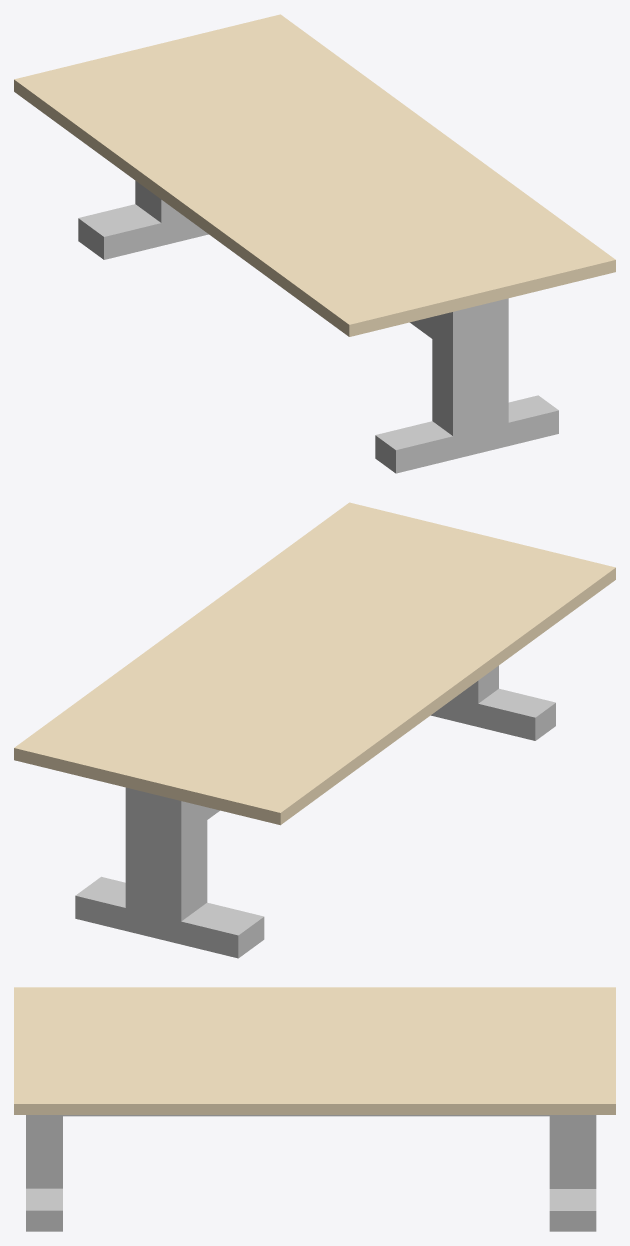
File: tablefloor8.fbx
3 views of the same model, one above another, from view 1: azimuth 30°, elevation 25°; view 2: azimuth 150°, elevation 25°; view 3: azimuth 270°, elevation 25° (orthographic). The views are drawn at different scales.
Parts seen in each view (by area): view 1: Cube; view 2: Cube; view 3: Cube.
Boxes of the visible parts, x1=… form: Cube: x1=14, y1=14, x2=615, y2=473; Cube: x1=14, y1=502, x2=615, y2=958; Cube: x1=14, y1=987, x2=615, y2=1231.
Bounding box in the file's own units: 63.93 × 38.17 × 139.
